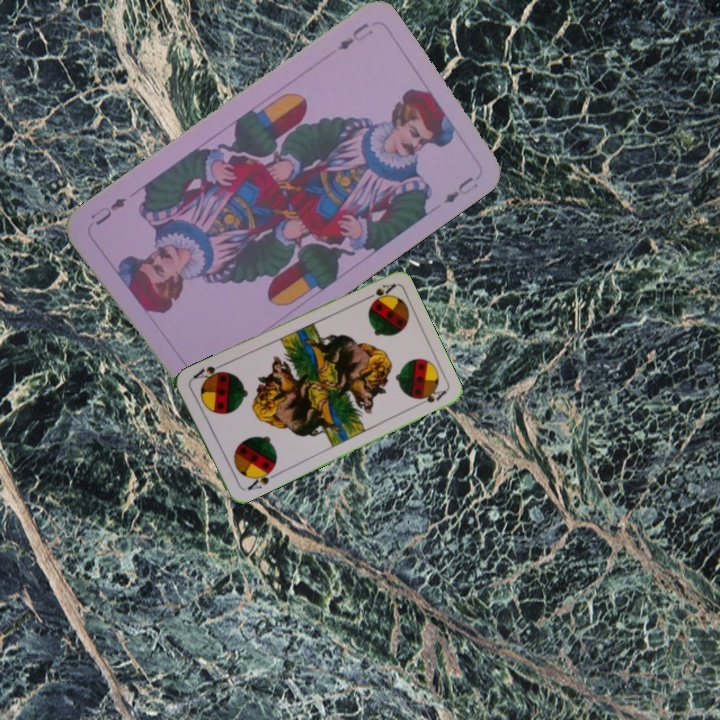EU: (333, 18, 376, 53)
SA: (243, 465, 278, 493), (359, 280, 397, 305)
